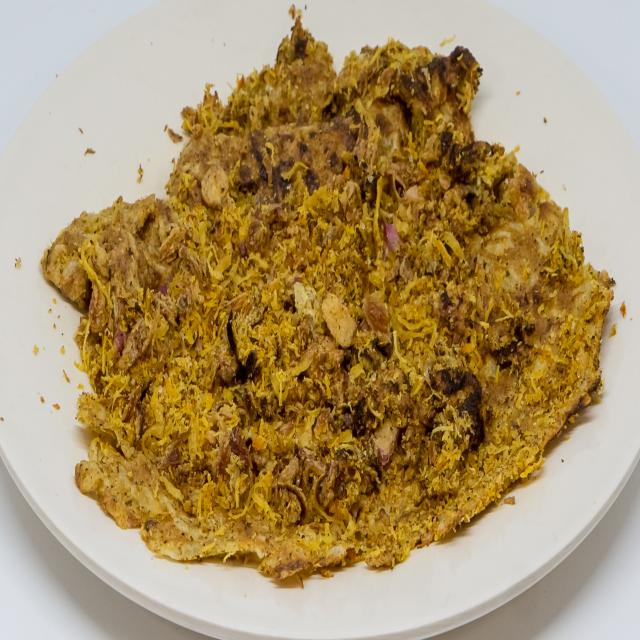Kerak-Telor: (45, 8, 624, 596)
